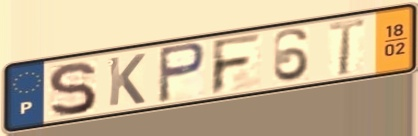6: (271, 27, 311, 85)
F: (209, 31, 265, 97)
K: (106, 52, 148, 109)
P: (156, 40, 209, 105)
S: (45, 60, 100, 120)
T: (326, 16, 368, 78)
